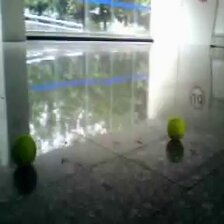tennis: (11, 134, 37, 164), (167, 117, 186, 138)
